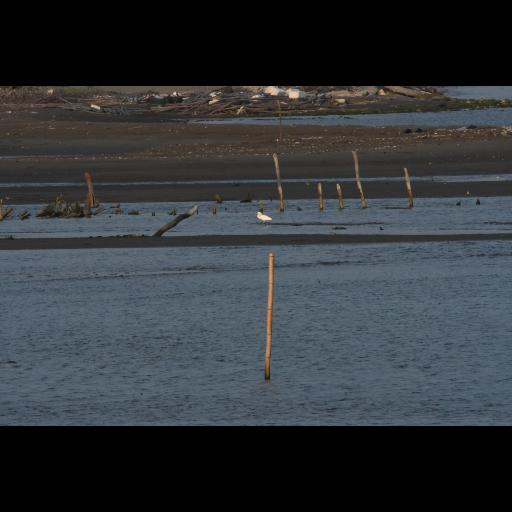chinese_egret: (254, 212, 272, 226)
